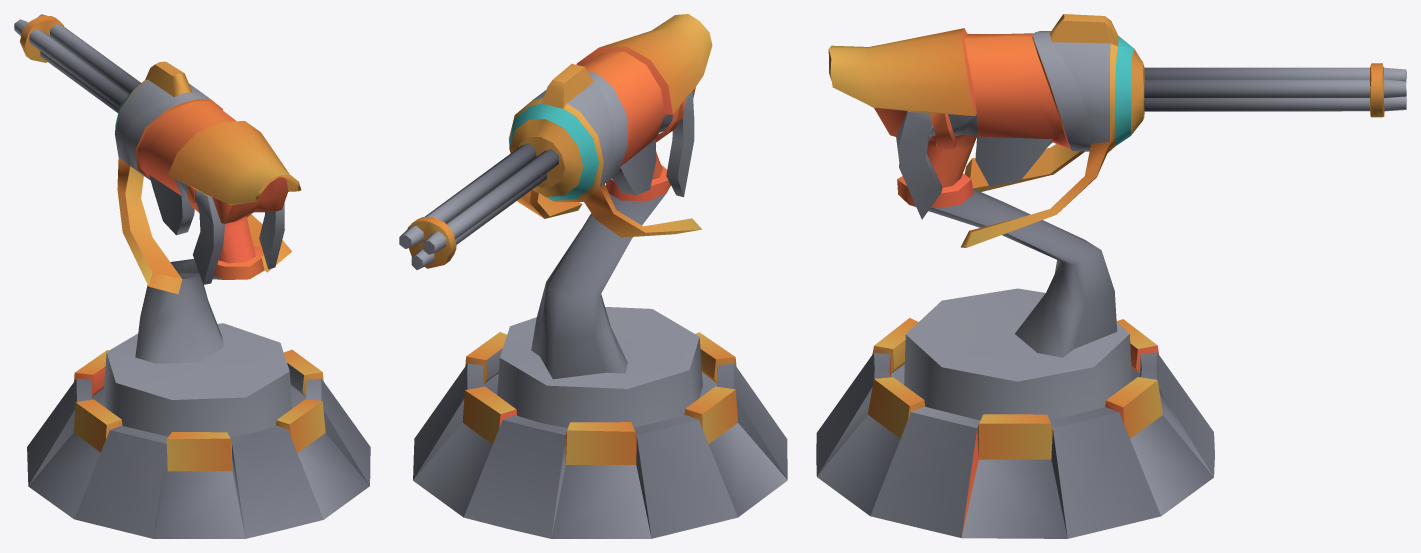
The model's file is Sci_Fi_Gun_01.fbx.
The picture shows the model from 3 angles, left to right: view 1: azimuth 30°, elevation 25°; view 2: azimuth 150°, elevation 25°; view 3: azimuth 270°, elevation 25°; orthographic projection. The views are drawn at different scales.
Visible parts, largest first — view 1: Sci_Fi_Gun_01; view 2: Sci_Fi_Gun_01; view 3: Sci_Fi_Gun_01.
Boxes of the visible parts, x1=… form: Sci_Fi_Gun_01: x1=14, y1=14, x2=370, y2=538; Sci_Fi_Gun_01: x1=399, y1=14, x2=787, y2=538; Sci_Fi_Gun_01: x1=816, y1=14, x2=1406, y2=538.
Bounding box in the file's own units: 147 × 178 × 218.
Materials: 1 (1 with a texture image).
